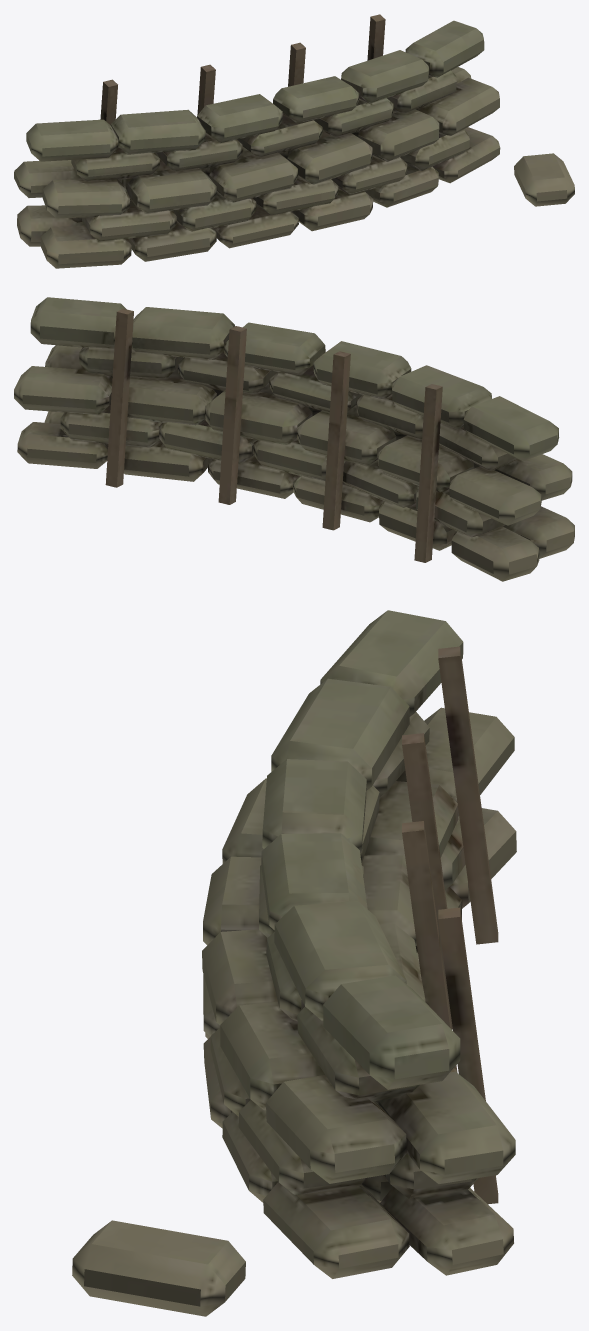
Rendered from hs_sandbag_wall_lod1.glb.
3 views of the same model, one above another, from view 1: azimuth 30°, elevation 25°; view 2: azimuth 150°, elevation 25°; view 3: azimuth 270°, elevation 25° (orthographic). The views are drawn at different scales.
Bounding box in the file's own units: 4.04 × 1.17 × 1.61.
1 material, 1 textured.
